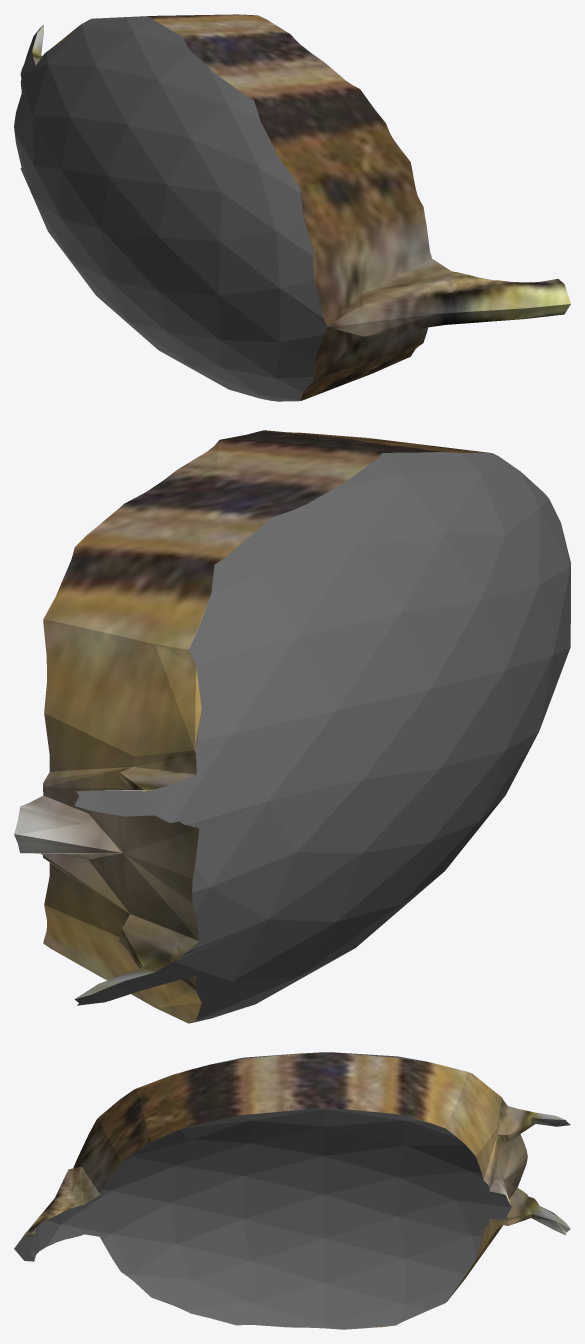
3 views of the same model, one above another, from view 1: azimuth 30°, elevation 25°; view 2: azimuth 150°, elevation 25°; view 3: azimuth 270°, elevation 25° (orthographic). The views are drawn at different scales.
Parts seen in each view (by area): view 1: link_7_visual; view 2: link_7_visual; view 3: link_7_visual.
Boxes of the visible parts, x1=… form: link_7_visual: x1=14, y1=14, x2=570, y2=401; link_7_visual: x1=14, y1=430, x2=570, y2=1023; link_7_visual: x1=14, y1=1052, x2=570, y2=1329.
Size of the model in its own units: 0.00175 by 0.0019 by 0.00382.
1 material, 1 textured.
